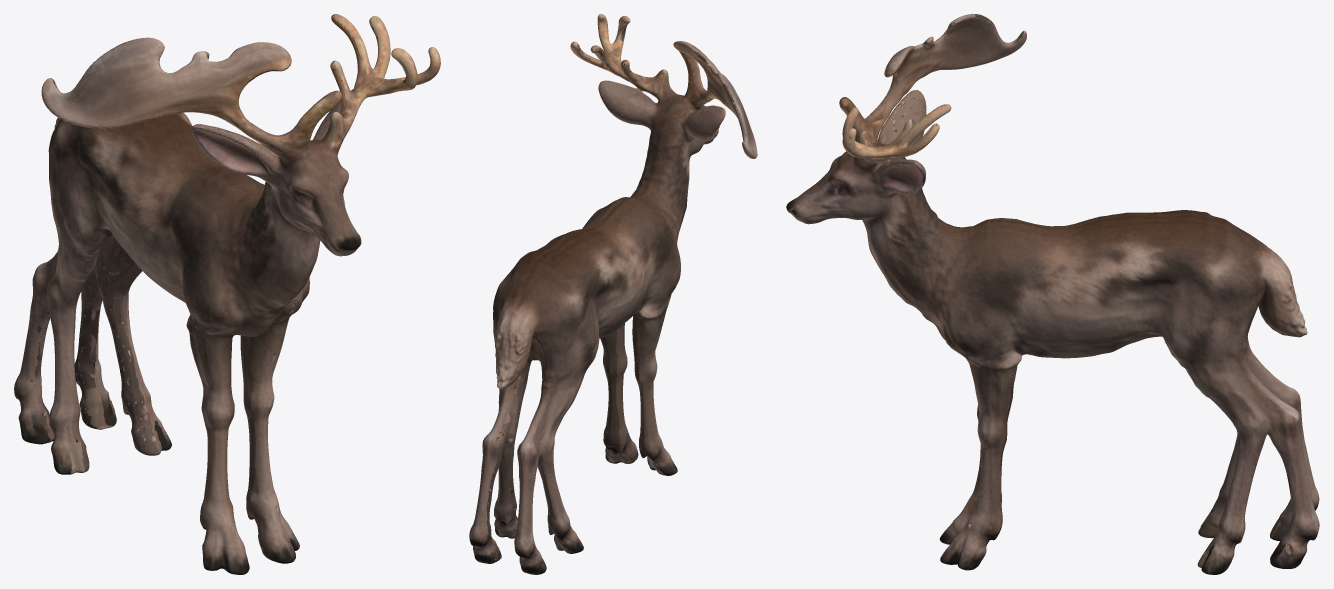
File: deer_amber.glb
3 renders of one model, left to right at view 1: azimuth 30°, elevation 25°; view 2: azimuth 150°, elevation 25°; view 3: azimuth 270°, elevation 25°, orthographic. The views are drawn at different scales.
Visible parts, largest first — view 1: tmp5asgagbr.ply; view 2: tmp5asgagbr.ply; view 3: tmp5asgagbr.ply.
Part boxes in pixels (bbox=[...]): tmp5asgagbr.ply: bbox=[14, 14, 440, 574]; tmp5asgagbr.ply: bbox=[469, 14, 757, 574]; tmp5asgagbr.ply: bbox=[786, 14, 1319, 574].
Size of the model in its own units: 1.15 by 1.99 by 1.96.
1 material, 1 textured.
